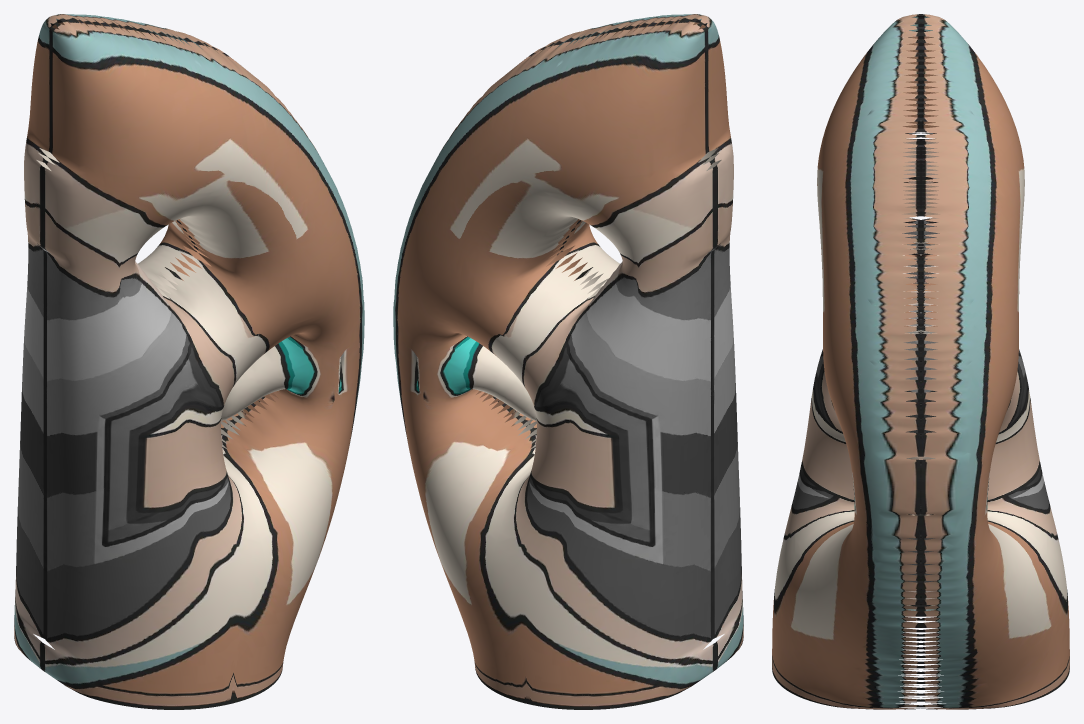
The model's file is side_bulkhead.glb.
3 views of the same model, side by side, from view 1: azimuth 30°, elevation 25°; view 2: azimuth 150°, elevation 25°; view 3: azimuth 270°, elevation 25° (orthographic). The views are drawn at different scales.
Visible parts, largest first — view 1: side_bulkhead; view 2: side_bulkhead; view 3: side_bulkhead.
Part boxes in pixels (left/top/right/bottom): side_bulkhead: left=14, top=14, right=364, bottom=709; side_bulkhead: left=393, top=14, right=743, bottom=709; side_bulkhead: left=772, top=14, right=1069, bottom=709.
Size of the model in its own units: 0.9779 by 1.98 by 0.8721.
Materials: 1 (1 with a texture image).
